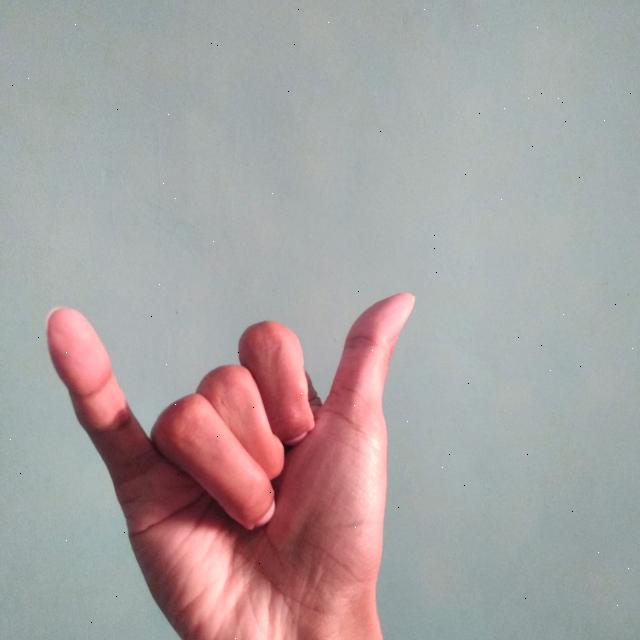Y: (33, 285, 422, 640)
